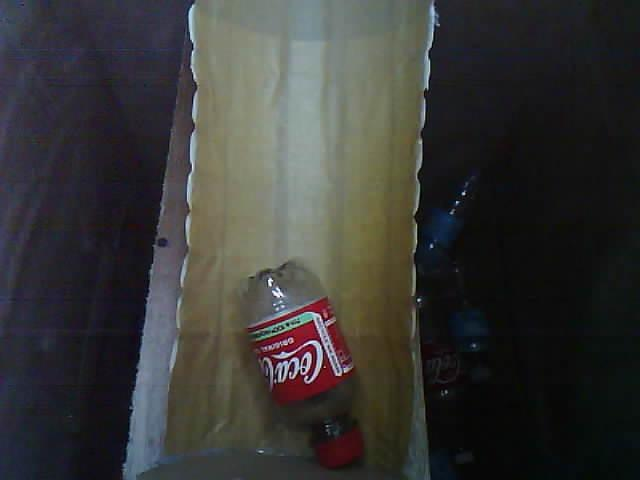small_bottle: (220, 252, 381, 480)
